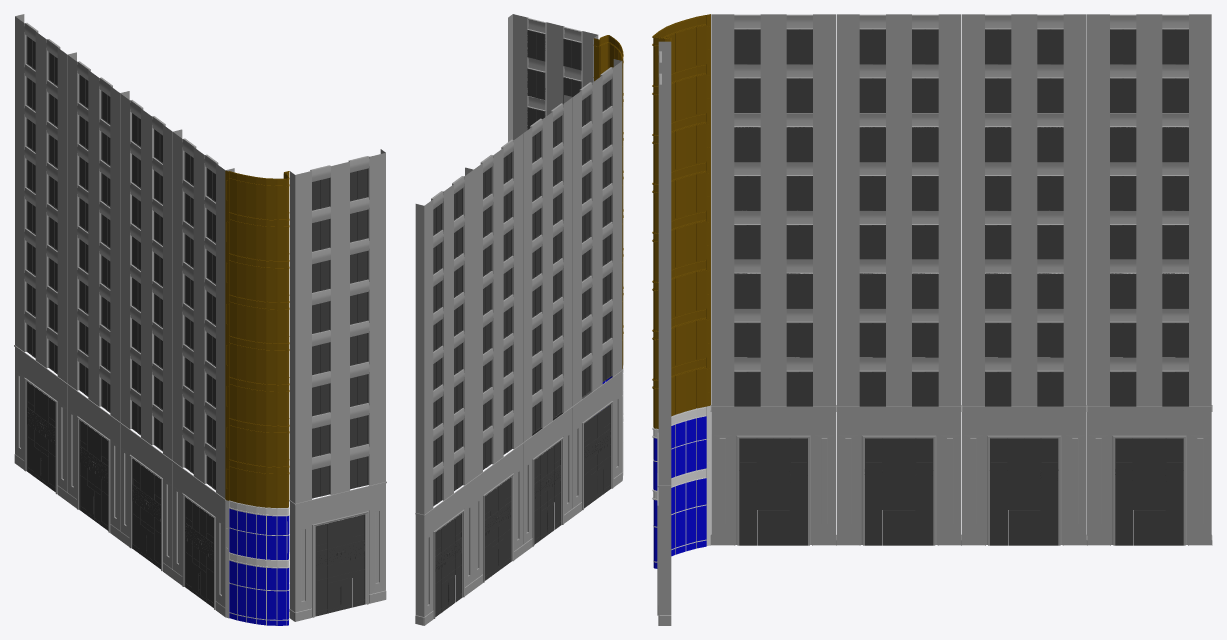
Rendered from Building 55.fbx.
The picture shows the model from 3 angles, left to right: view 1: azimuth 30°, elevation 25°; view 2: azimuth 150°, elevation 25°; view 3: azimuth 270°, elevation 25°; orthographic projection. The views are drawn at different scales.
Parts seen in each view (by area): view 1: Building60; view 2: Building60; view 3: Building60.
Part boxes in pixels (bbox=[...]): Building60: bbox=[14, 14, 386, 625]; Building60: bbox=[415, 14, 623, 625]; Building60: bbox=[652, 14, 1212, 625].
Bounding box in the file's own units: 35.57 × 109 × 104.
